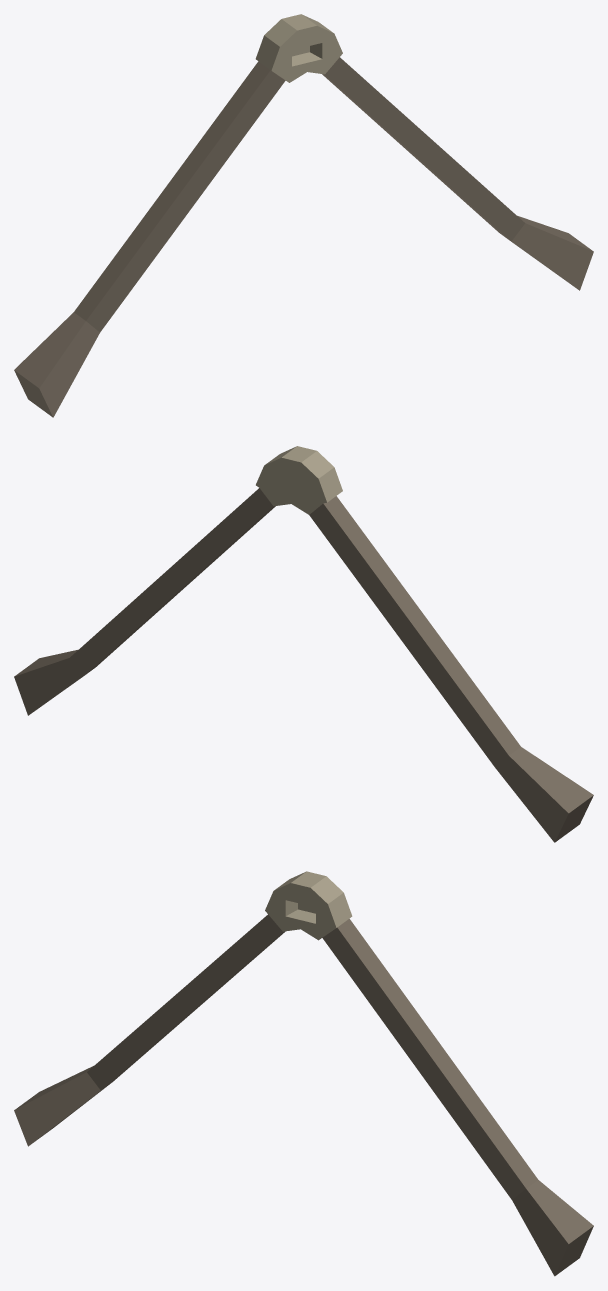
Rendered from ROOF_ELEMENT_1.fbx.
The picture shows the model from 3 angles, top to bottom: view 1: azimuth 30°, elevation 25°; view 2: azimuth 150°, elevation 25°; view 3: azimuth 330°, elevation 25°; orthographic projection.
Visible parts, largest first — view 1: ROOF_ELEMENT_1; view 2: ROOF_ELEMENT_1; view 3: ROOF_ELEMENT_1.
Boxes of the visible parts, x1,y1,x2,y2 form: ROOF_ELEMENT_1: (14,14,593,417); ROOF_ELEMENT_1: (14,446,593,842); ROOF_ELEMENT_1: (14,871,593,1276).
Bounding box in the file's own units: 315 × 174 × 24.84.
